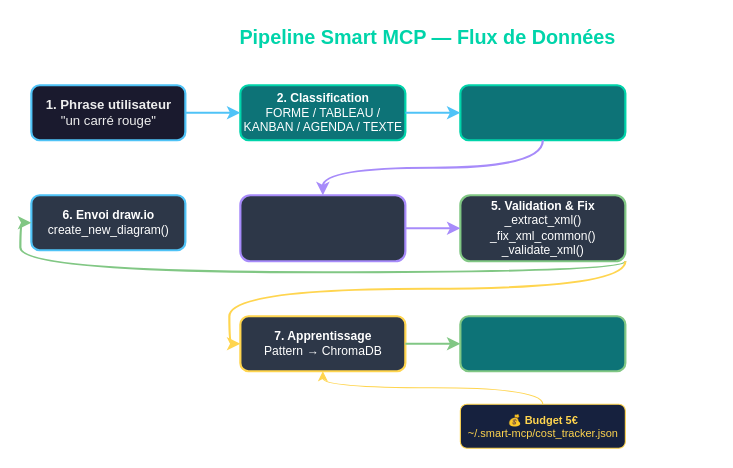
This 733x468 diagram has some shape labels left out. Here are the shapes that lost their labels. From the top down, the centre of each, then its label:
At point (542, 112): "3. Recherche RAG (ChromaDB) patterns XML".
At point (322, 228): "4. Génération XML qwen3.5:9b-hermes + fallback cloud si invalide".
At point (542, 343): "8. Dashboard Métriques temps réel Port 8050".
